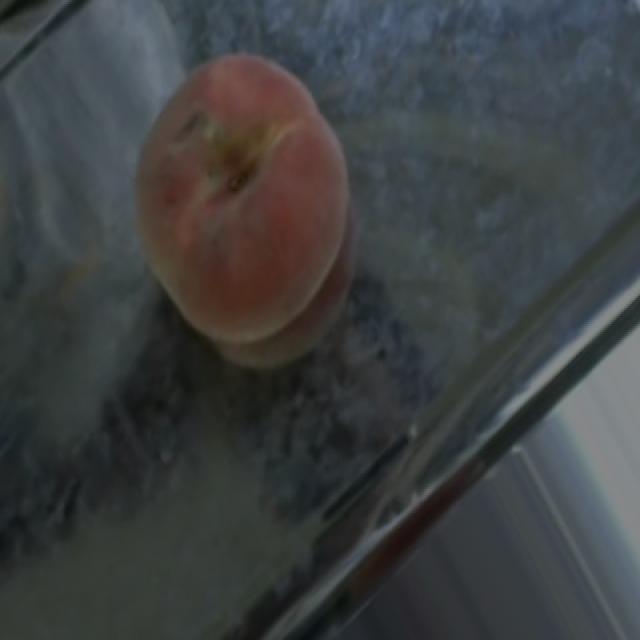Fruit: (92, 20, 389, 380)
